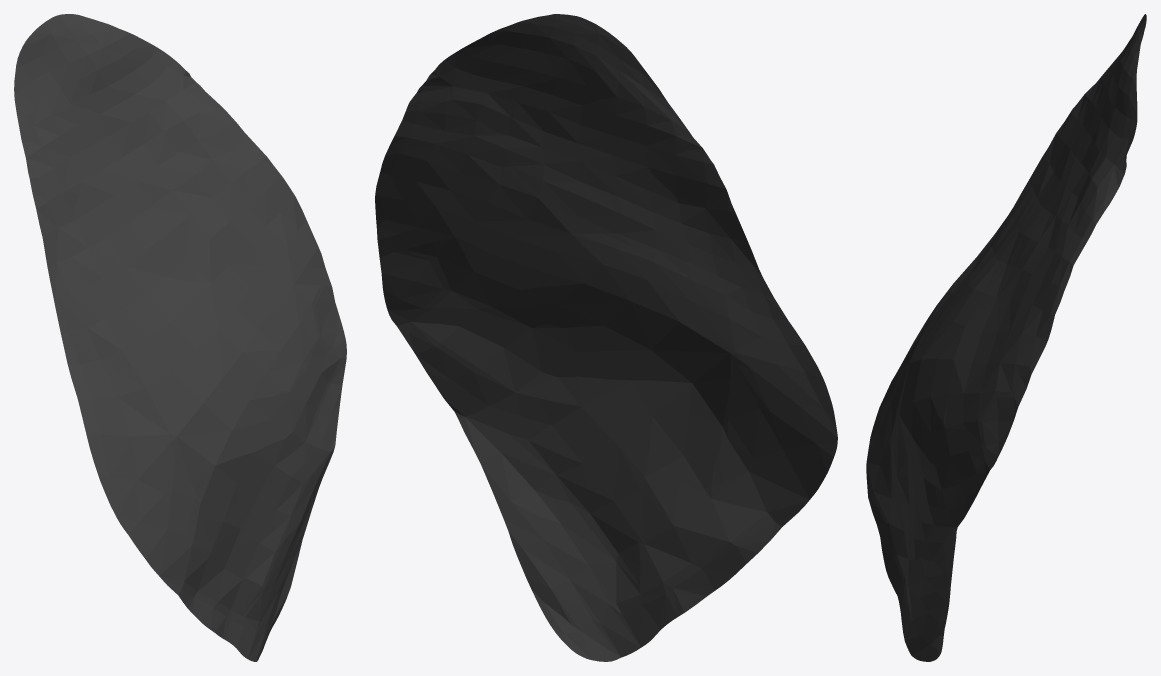
The model's file is Infraspinatus.glb.
3 views of the same model, side by side, from view 1: azimuth 30°, elevation 25°; view 2: azimuth 150°, elevation 25°; view 3: azimuth 270°, elevation 25° (orthographic). The views are drawn at different scales.
Parts seen in each view (by area): view 1: Infraspinatus; view 2: Infraspinatus; view 3: Infraspinatus.
Boxes of the visible parts, x1,y1,x2,y2 form: Infraspinatus: (14,14,346,661); Infraspinatus: (375,14,837,661); Infraspinatus: (866,14,1146,661).
Bounding box in the file's own units: 0.048 × 0.0919 × 0.039.
1 material, 1 textured.
